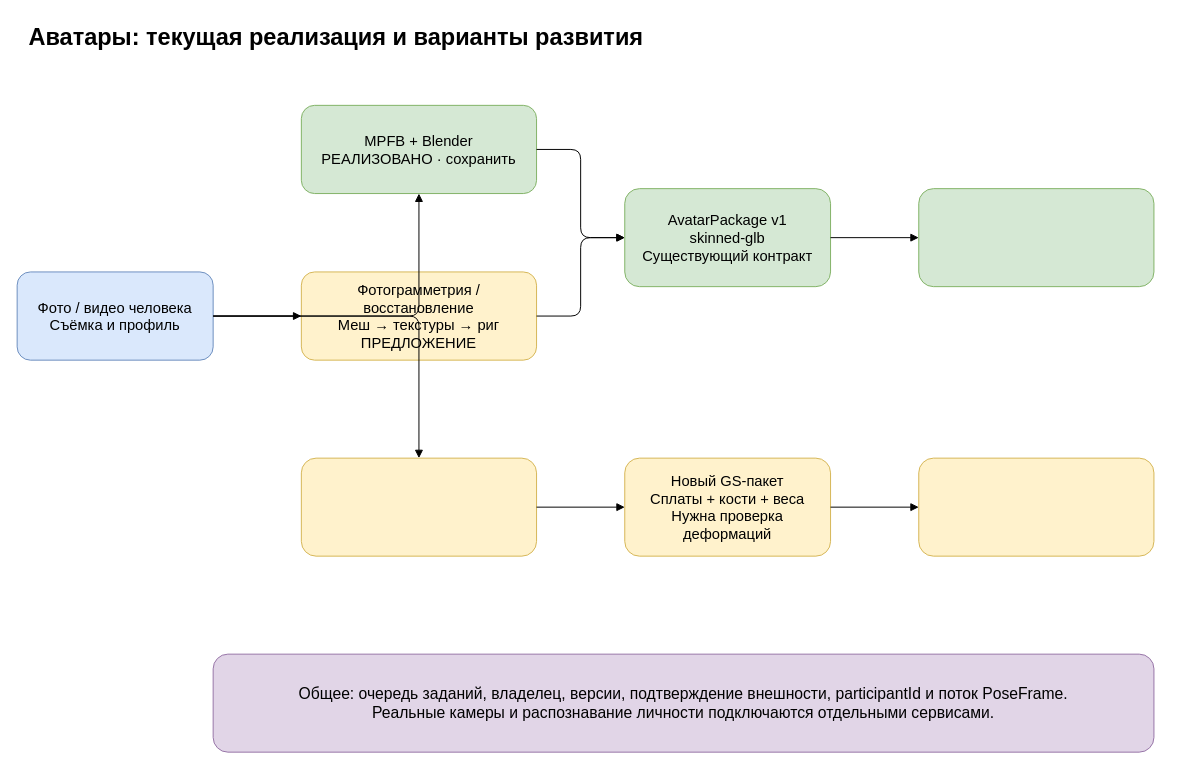
This 1201x769 diagram has some shape labels left out. Here are the shapes that lost their labels. From the top down, the box of each, then its label:
(918, 188, 1154, 287): React / Three.js AvatarRenderer РЕАЛИЗОВАНО
(300, 457, 537, 556): LHM++ / GaussianAvatar / HAHA Анимируемое GS-представление ЭКСПЕРИМЕНТ
(918, 457, 1154, 556): React / Spark GaussianAvatarRenderer НОВЫЙ АДАПТЕР
